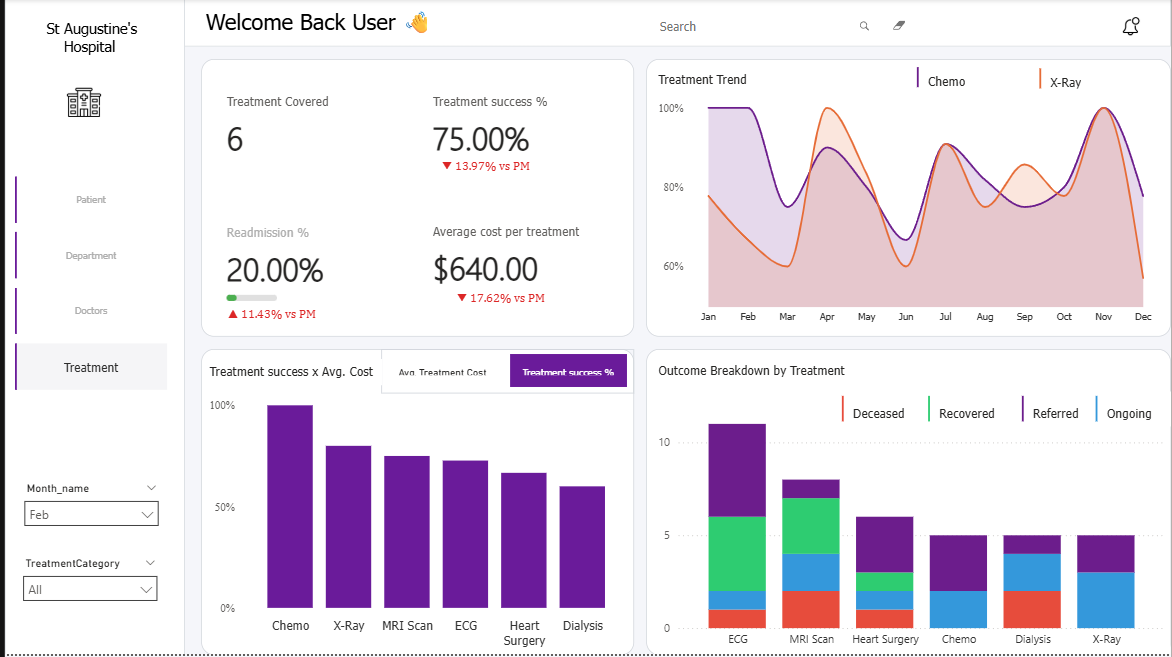

What the dashboard file says about the page in this screenshot:
{"tool":"powerbi","page":{"name":"Treatment","canvas":[1280,720],"ordinal":3},"visuals":[{"type":"shape","box":[215.2,384.4,571,335.9],"z":0},{"type":"shape","box":[704.1,65.9,576,304.8],"z":1000},{"type":"shape","box":[215.2,65.9,475.2,304.8],"z":2000},{"type":"shape","box":[0,0,1280,52.2],"z":3000},{"type":"shape","box":[0,0,197.6,720.4],"z":4000},{"type":"textbox","box":[215.2,3.7,571,43.5],"z":5000},{"type":"textbox","box":[19.9,17.4,149.3,68.4],"z":6000},{"type":"pageNavigator","box":[11,194.9,167.4,236],"z":7000},{"type":"image","box":[63.4,88.3,47.3,51],"z":8000},{"type":"image","box":[1220.3,14.9,32.3,29.9],"z":9000},{"type":"cardVisual","fields":{"Data":["Calculations.Total_Treatments"]},"box":[226.4,77.1,226.4,125.6],"z":10000},{"type":"cardVisual","fields":{"Data":["Calculations.Treatment success %"]},"box":[452.8,77.1,228.9,125.6],"z":11000},{"type":"cardVisual","fields":{"Data":["Calculations.Average Treatment Duration"]},"box":[226.4,202.8,226.4,159.2],"z":12000},{"type":"cardVisual","fields":{"Data":["Calculations.Average cost per treatment"]},"box":[452.8,202.8,228.9,159.2],"z":13000},{"type":"clusteredColumnChart","title":"Treatment  x Treatment Success","fields":{"Y":["Calculations.Treatment success %"],"Category":["Department_Dim.DepartmentName"]},"box":[704.1,85.8,576,286.1],"z":14000},{"type":"lineChart","title":"Chronic Illness Trend","fields":{"Category":["Calendar.Month_name"],"Y":["CountNonNull(FactTable.ChronicIllnessType)"]},"box":[226.4,459,559.8,250],"z":15000},{"type":"textbox","box":[226.4,396.8,167.9,34.8],"z":16000},{"type":"shape","box":[797.4,384.4,482.7,335.9],"z":17000},{"type":"tableEx","fields":{"Values":["Treatment_Dim.TreatmentName","FactTable.TreatmentID","Avg(FactTable.Treatment Success Rate)"]},"box":[803.6,552.3,471.5,167.9],"z":18000},{"type":"cardVisual","fields":{"Data":["Calculations.Treatment success %"]},"box":[803.6,396.8,189.1,141.8],"z":19000},{"type":"cardVisual","fields":{"Data":["Calculations.Readmission %"]},"box":[1063.6,398.1,189.1,140.6],"z":20000},{"type":"textbox","box":[803.6,384.4,220.2,34.8],"z":21000},{"type":"slicer","fields":{"Values":["Calendar.Month_name"]},"box":[11.2,526.2,167.9,58.5],"z":22000},{"type":"textFilter25A4896A83E0487089E2B90C9AE57C8A","fields":{"field":["Patient_Dim.PatientID"]},"box":[704.1,6.2,301,41.1],"z":23000},{"type":"slicer","fields":{"Values":["Treatment_Dim.TreatmentCategory"]},"box":[10,608.3,167.9,58.5],"z":24000},{"type":"multiRowCard","fields":{"Values":["FactTable.ChronicIllnessType"]},"box":[536.1,391.8,240.1,54.7],"z":25000},{"type":"advancedSlicerVisual","fields":{"Values":["Treatment_prm.Treatment_prm"]},"box":[992.7,77.1,277.4,48.5],"z":26000},{"type":"card","fields":{"Values":["Calculations.Total treatments MOM"]},"box":[475.2,169.2,107,33.6],"z":26001},{"type":"card","fields":{"Values":["Calculations.Total treatment duration MOM"]},"box":[247.5,313.5,104.5,33.6],"z":26002},{"type":"card","fields":{"Values":["Calculations.Total treatments MOM"]},"box":[822.3,508.8,113.2,33.6],"z":26003},{"type":"card","fields":{"Values":["Calculations.Total readmission MOM"]},"box":[1082.2,508.8,109.5,33.6],"z":26004},{"type":"card","fields":{"Values":["Calculations.Total avg cost MOM"]},"box":[490.1,313.5,109.5,33.6],"z":26005}]}

Visuals, with their boxes on the page's 1280x720 design canvas (x1, y1, x2, y2). These are canvas units, not pixel positions in the 1172x657 screenshot, which may show the page scaled, cropped or inside an application window:
shape: pyautogui.locateOnScreen(215, 384, 786, 720)
shape: pyautogui.locateOnScreen(704, 66, 1280, 371)
shape: pyautogui.locateOnScreen(215, 66, 690, 371)
shape: pyautogui.locateOnScreen(0, 0, 1280, 52)
shape: pyautogui.locateOnScreen(0, 0, 198, 720)
textbox: pyautogui.locateOnScreen(215, 4, 786, 47)
textbox: pyautogui.locateOnScreen(20, 17, 169, 86)
pageNavigator: pyautogui.locateOnScreen(11, 195, 178, 431)
image: pyautogui.locateOnScreen(63, 88, 111, 139)
image: pyautogui.locateOnScreen(1220, 15, 1253, 45)
cardVisual - Calculations.Total_Treatments: pyautogui.locateOnScreen(226, 77, 453, 203)
cardVisual - Calculations.Treatment success %: pyautogui.locateOnScreen(453, 77, 682, 203)
cardVisual - Calculations.Average Treatment Duration: pyautogui.locateOnScreen(226, 203, 453, 362)
cardVisual - Calculations.Average cost per treatment: pyautogui.locateOnScreen(453, 203, 682, 362)
"Treatment  x Treatment Success" clusteredColumnChart: pyautogui.locateOnScreen(704, 86, 1280, 372)
"Chronic Illness Trend" lineChart: pyautogui.locateOnScreen(226, 459, 786, 709)
textbox: pyautogui.locateOnScreen(226, 397, 394, 432)
shape: pyautogui.locateOnScreen(797, 384, 1280, 720)
tableEx - Treatment_Dim.TreatmentName x FactTable.TreatmentID: pyautogui.locateOnScreen(804, 552, 1275, 720)
cardVisual - Calculations.Treatment success %: pyautogui.locateOnScreen(804, 397, 993, 539)
cardVisual - Calculations.Readmission %: pyautogui.locateOnScreen(1064, 398, 1253, 539)
textbox: pyautogui.locateOnScreen(804, 384, 1024, 419)
slicer - Calendar.Month_name: pyautogui.locateOnScreen(11, 526, 179, 585)
textFilter25A4896A83E0487089E2B90C9AE57C8A - Patient_Dim.PatientID: pyautogui.locateOnScreen(704, 6, 1005, 47)
slicer - Treatment_Dim.TreatmentCategory: pyautogui.locateOnScreen(10, 608, 178, 667)
multiRowCard - FactTable.ChronicIllnessType: pyautogui.locateOnScreen(536, 392, 776, 446)
advancedSlicerVisual - Treatment_prm.Treatment_prm: pyautogui.locateOnScreen(993, 77, 1270, 126)
card - Calculations.Total treatments MOM: pyautogui.locateOnScreen(475, 169, 582, 203)
card - Calculations.Total treatment duration MOM: pyautogui.locateOnScreen(248, 314, 352, 347)
card - Calculations.Total treatments MOM: pyautogui.locateOnScreen(822, 509, 936, 542)
card - Calculations.Total readmission MOM: pyautogui.locateOnScreen(1082, 509, 1192, 542)
card - Calculations.Total avg cost MOM: pyautogui.locateOnScreen(490, 314, 600, 347)
